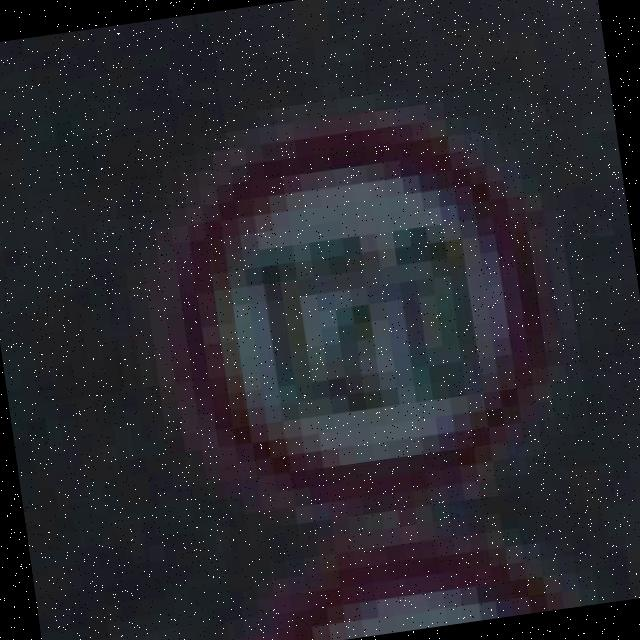Ograniczenie predkosci do 120: (156, 106, 566, 526)
